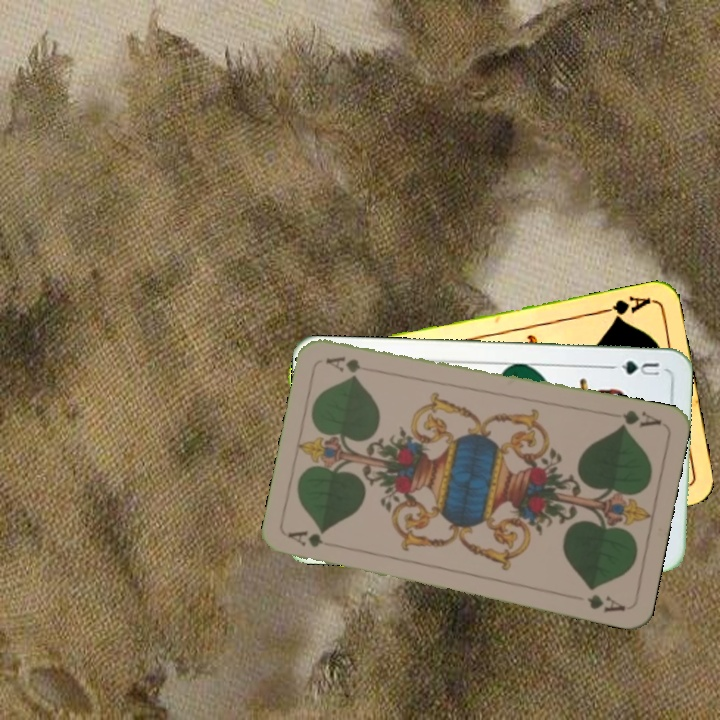GA: (595, 292, 654, 323), (285, 527, 344, 550), (616, 406, 664, 431)
GU: (607, 357, 662, 378)
